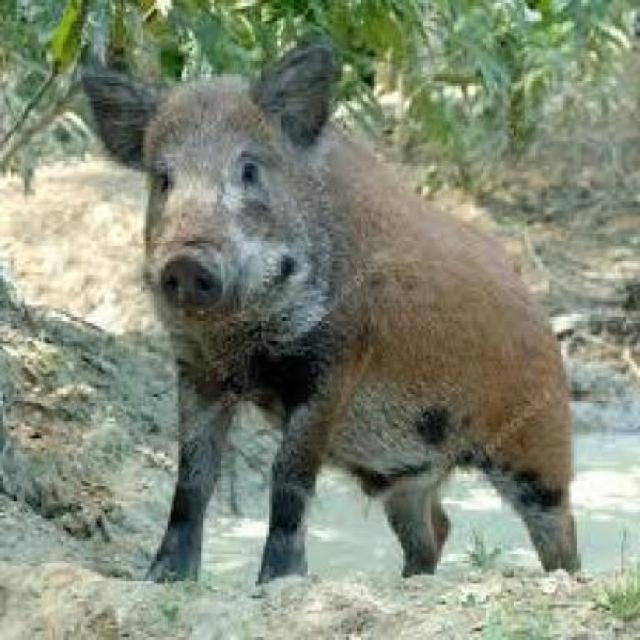wildboar: (73, 34, 587, 594)
